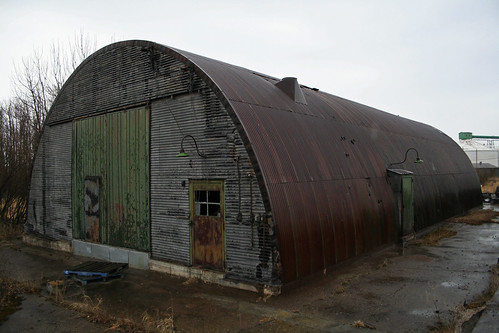building: (17, 76, 474, 281)
sky: (1, 1, 490, 120)
